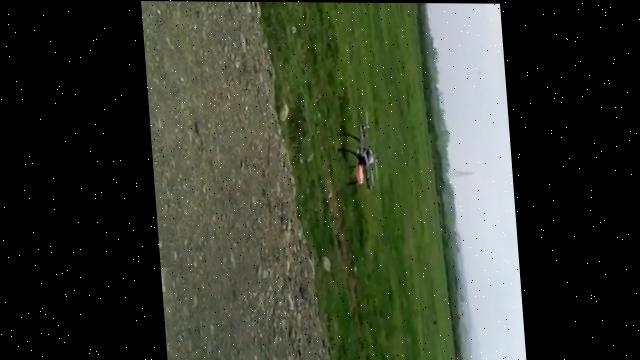drone: (334, 108, 380, 192)
